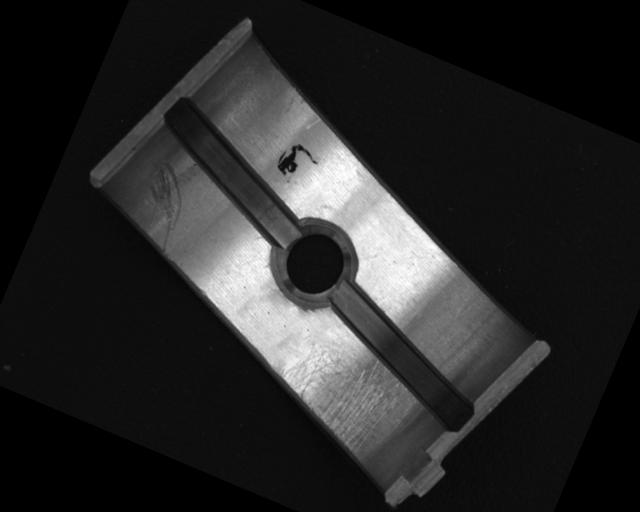blot: (272, 136, 324, 187)
gap: (300, 278, 506, 440), (132, 90, 333, 253)
hole: (264, 211, 365, 313)
nick: (122, 152, 200, 254)
scratch: (259, 327, 408, 464)
